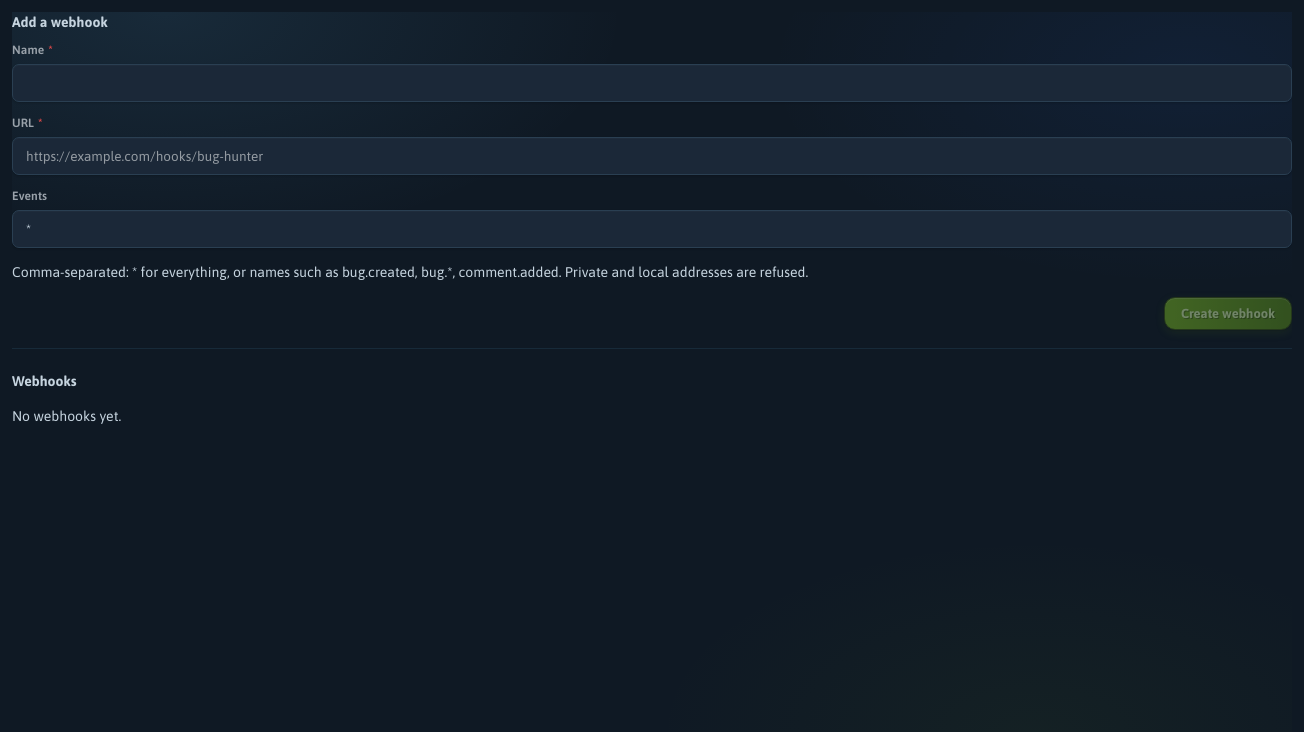
Scenario: WebhooksTab › shows the signing secret once after creating a webhook
Type "CI" into the field labelled "Name *". click: (652, 83)
box: [12,64,1292,102]
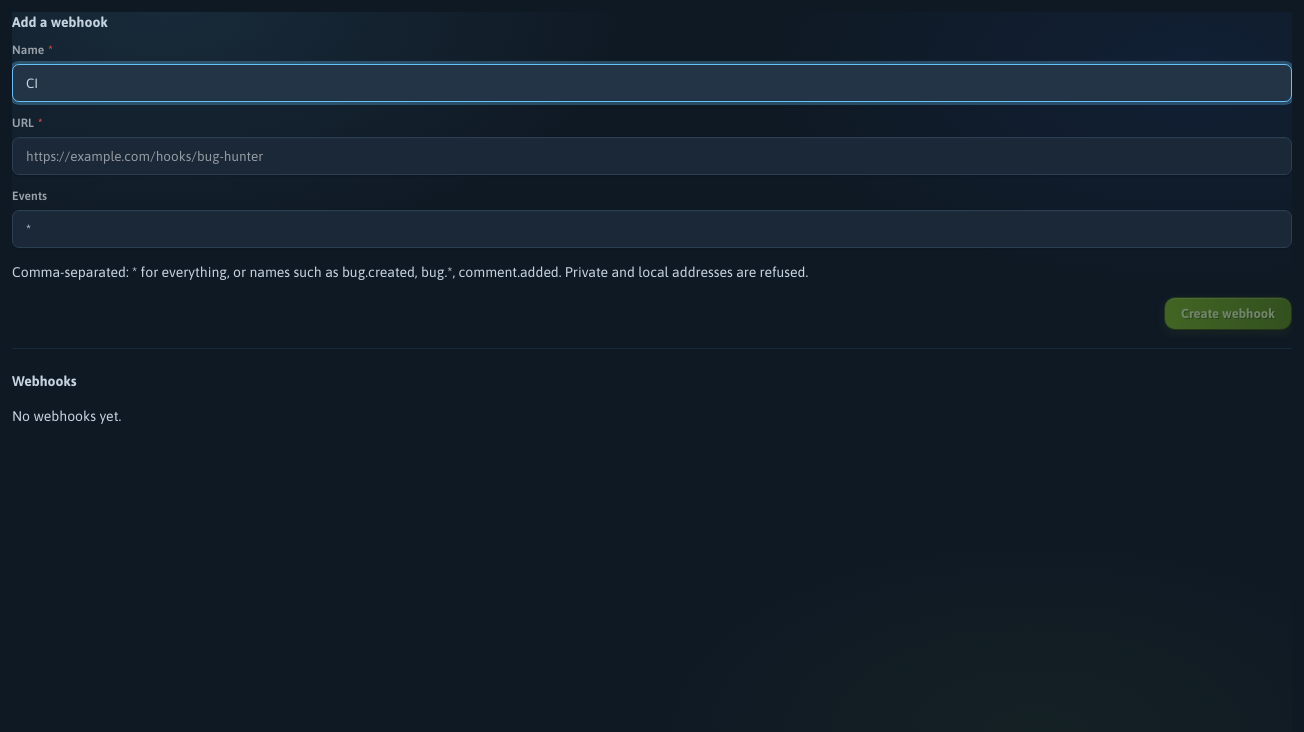
Type "https://example.com/hook" into the field labelled "URL *". click: (652, 156)
box: [12,137,1292,175]
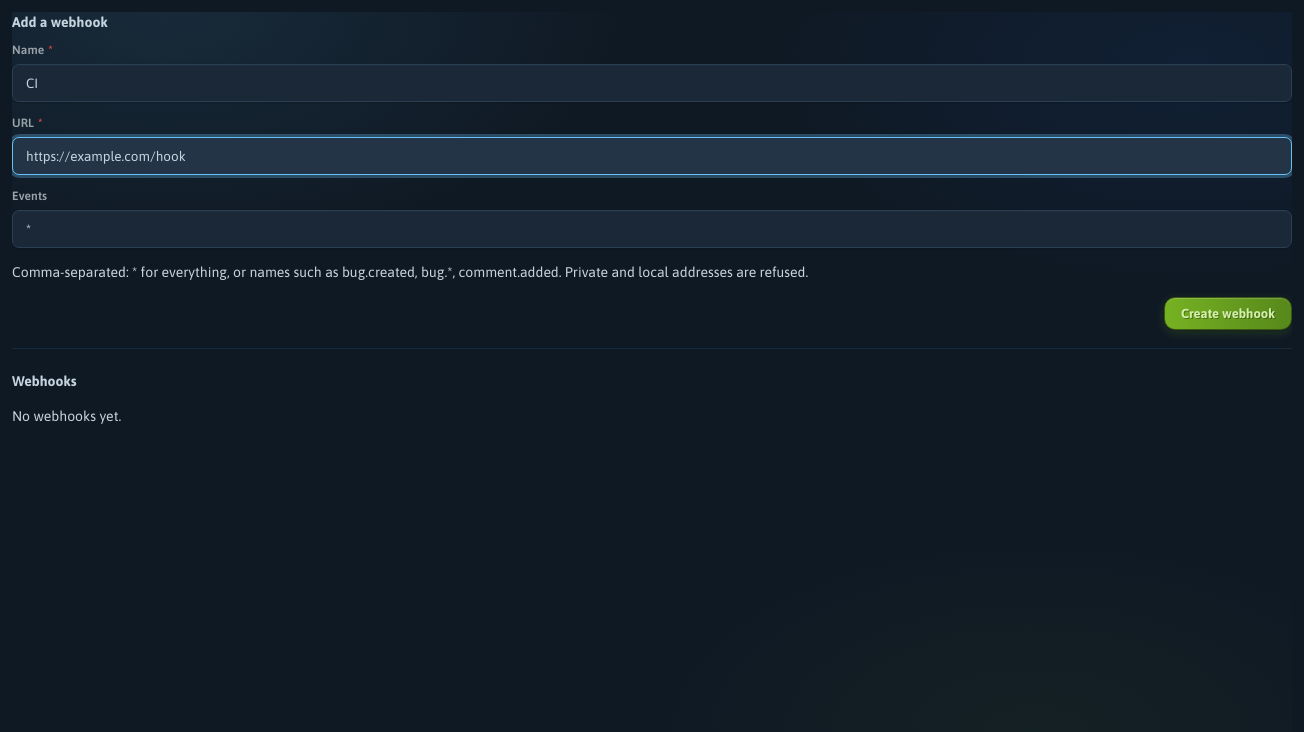
Click the button "Create webhook". click: (1228, 314)
box: [1164,297,1292,330]
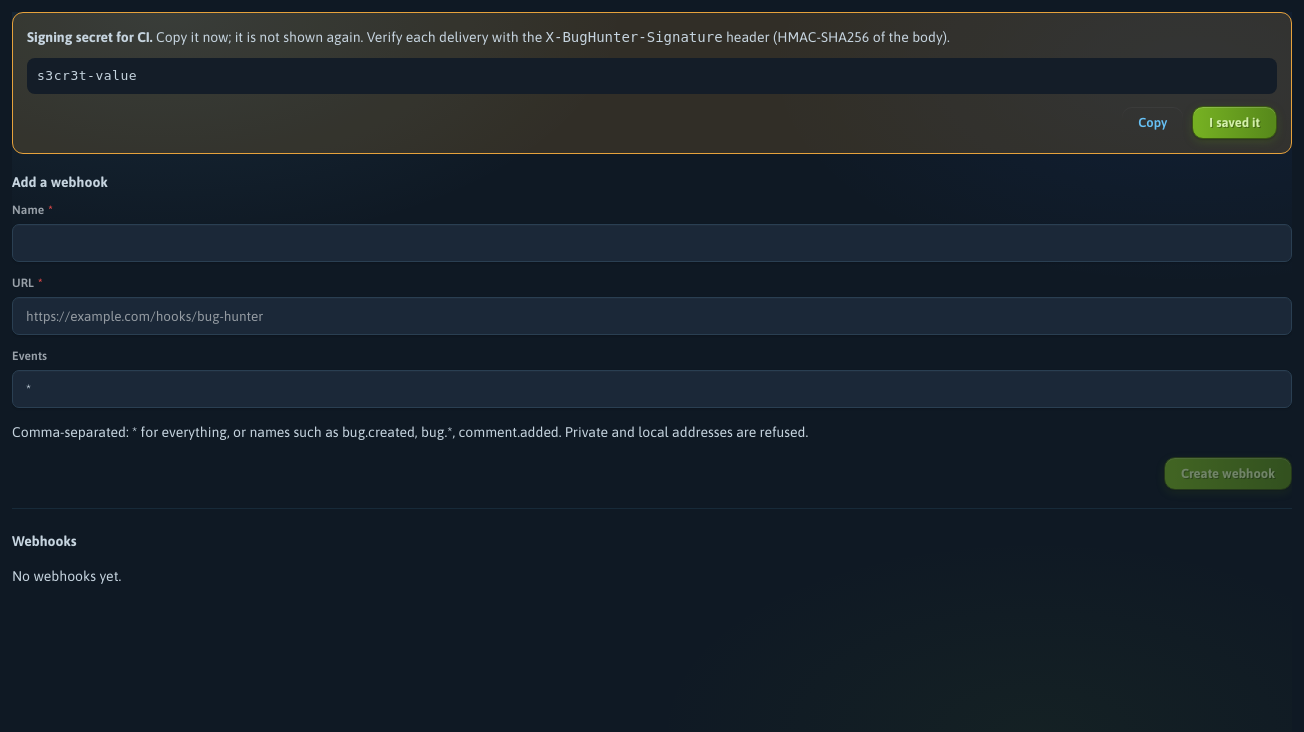
Check: the text "s3cr3t-value" is shown, box [27,58,1277,94]
Click the button "I saved it". click: (1235, 122)
box: [1192,106,1277,138]
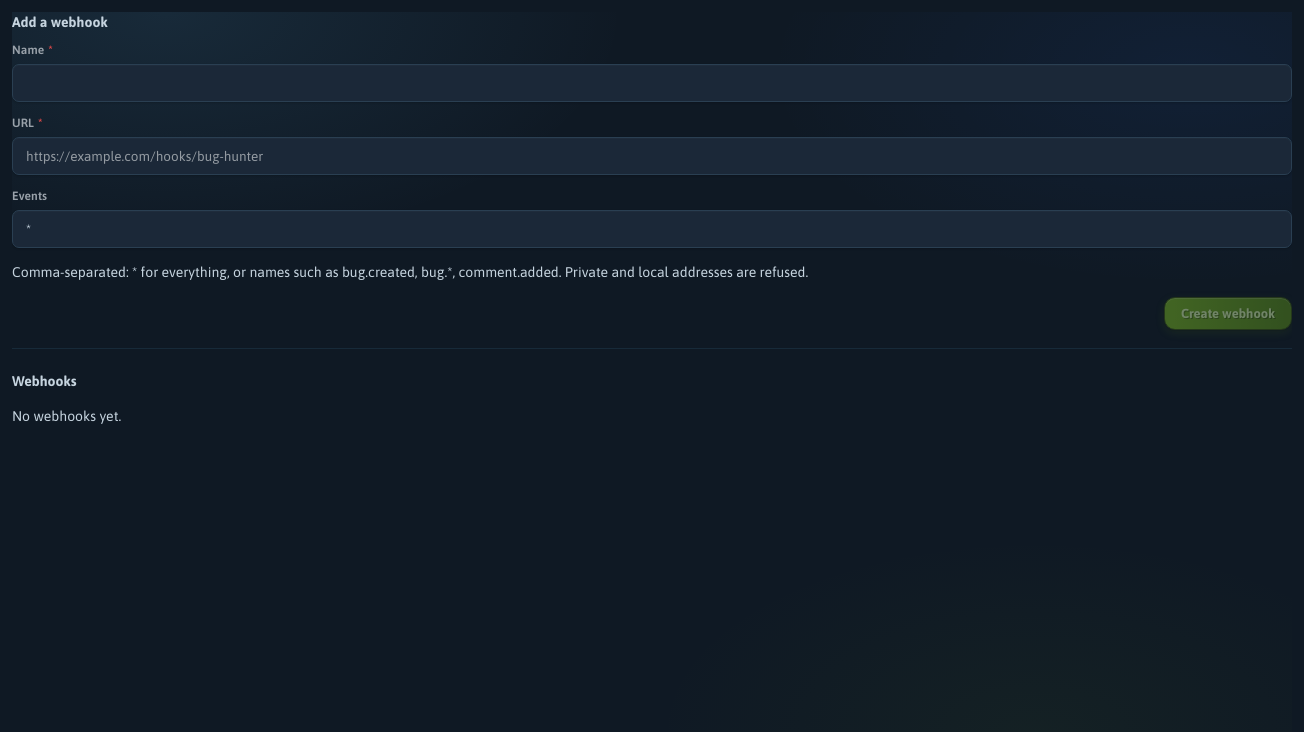
Check: the text "s3cr3t-value" is gone
